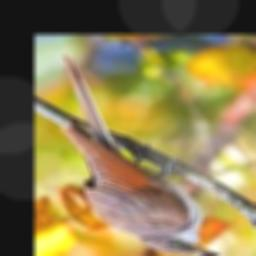Cuckoo: (61, 56, 220, 256)
